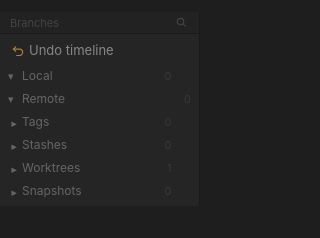
Test: BranchPane — worktrees rendering › marks a locked worktree with a "locked" badge
Click the text "Worktrees".
click(51, 168)  # box [22,160,80,175]
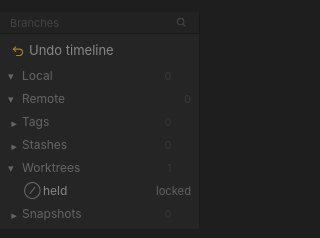
Result: the text "locked" is shown at [156,184,191,198]
